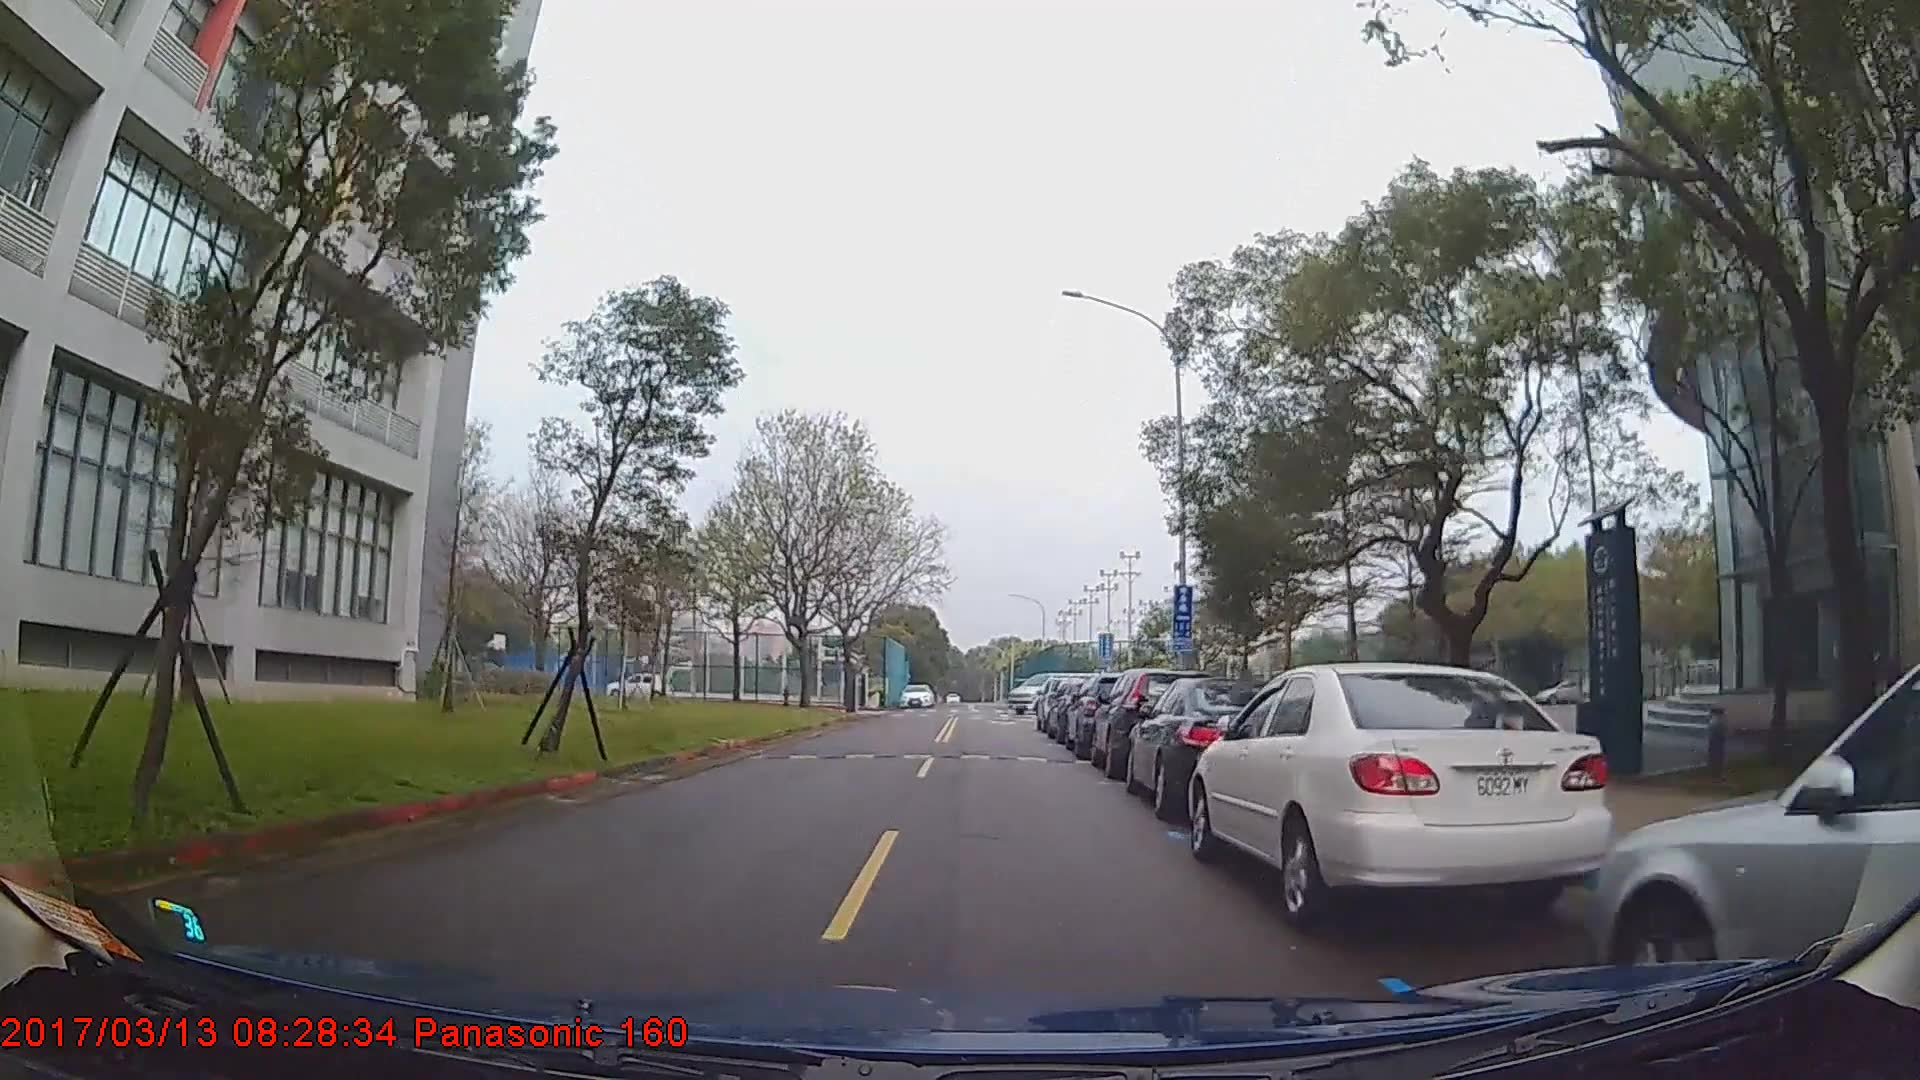vehicle: (1188, 661, 1615, 930), (1597, 661, 1920, 1007), (1127, 675, 1300, 822), (1089, 669, 1218, 779), (603, 671, 671, 699), (899, 684, 934, 708)
